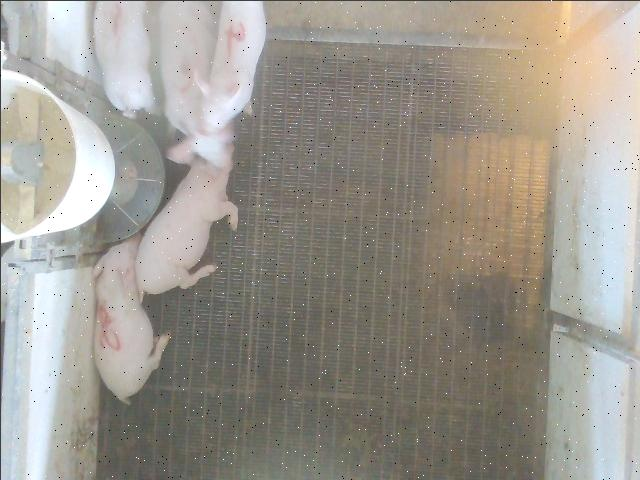pig-1: (92, 1, 154, 118)
pig-3: (159, 1, 232, 166)
pig-4: (196, 2, 265, 134)
pig-5: (91, 234, 169, 402)
